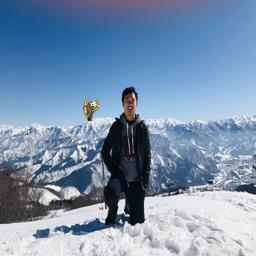Woodpecker: (83, 101, 99, 122)
